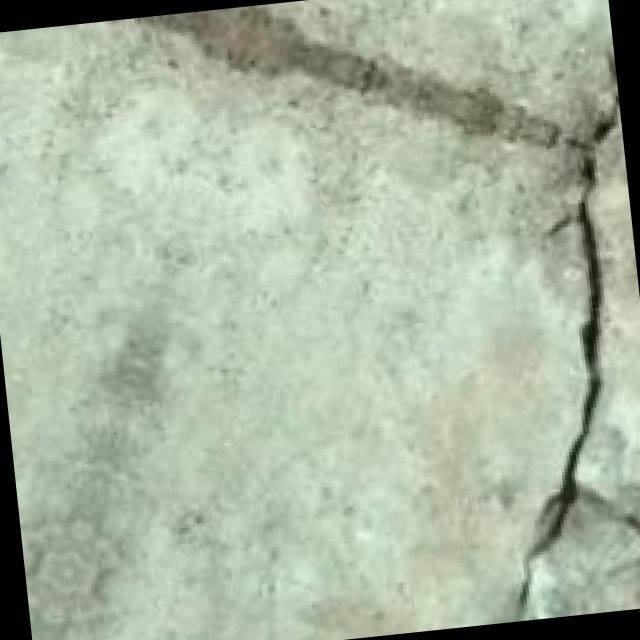crack: (386, 67, 640, 625)
